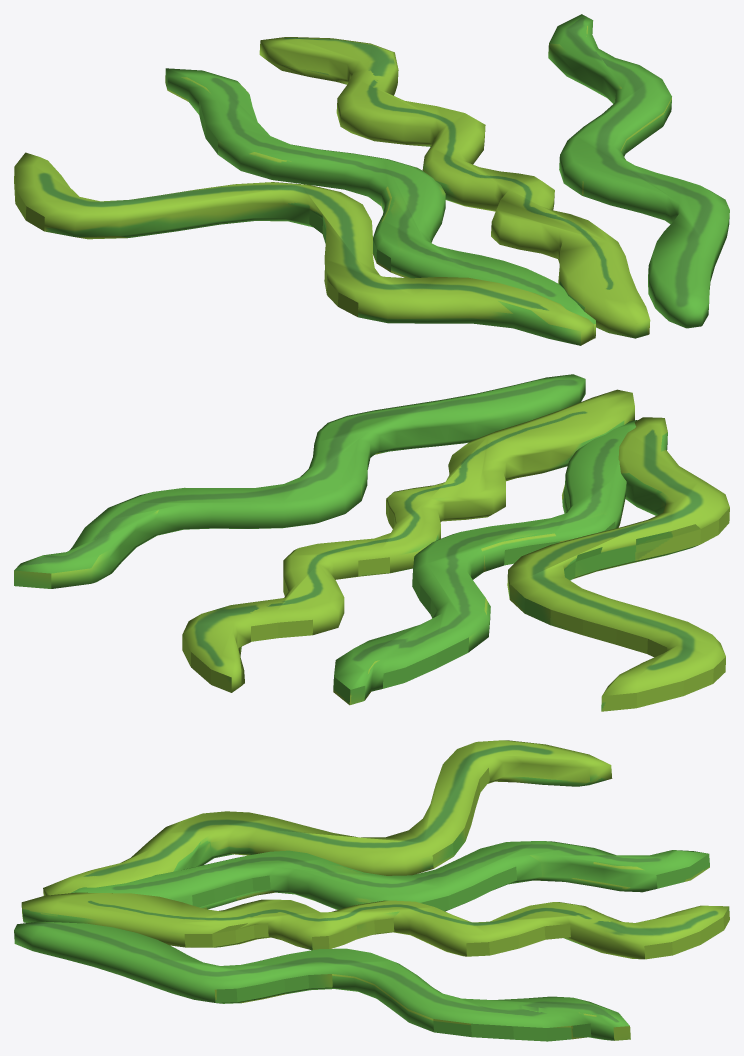
Rendered from Algues.fbx.
The picture shows the model from 3 angles, top to bottom: view 1: azimuth 30°, elevation 25°; view 2: azimuth 150°, elevation 25°; view 3: azimuth 270°, elevation 25°; orthographic projection. The views are drawn at different scales.
Visible parts, largest first — view 1: Plane.004; view 2: Plane.004; view 3: Plane.004.
Part boxes in pixels (x1=…): Plane.004: x1=14, y1=14, x2=729, y2=345; Plane.004: x1=14, y1=374, x2=729, y2=711; Plane.004: x1=14, y1=740, x2=729, y2=1041.
Size of the model in its own units: 422 by 25.91 by 456.
1 material, 1 textured.
